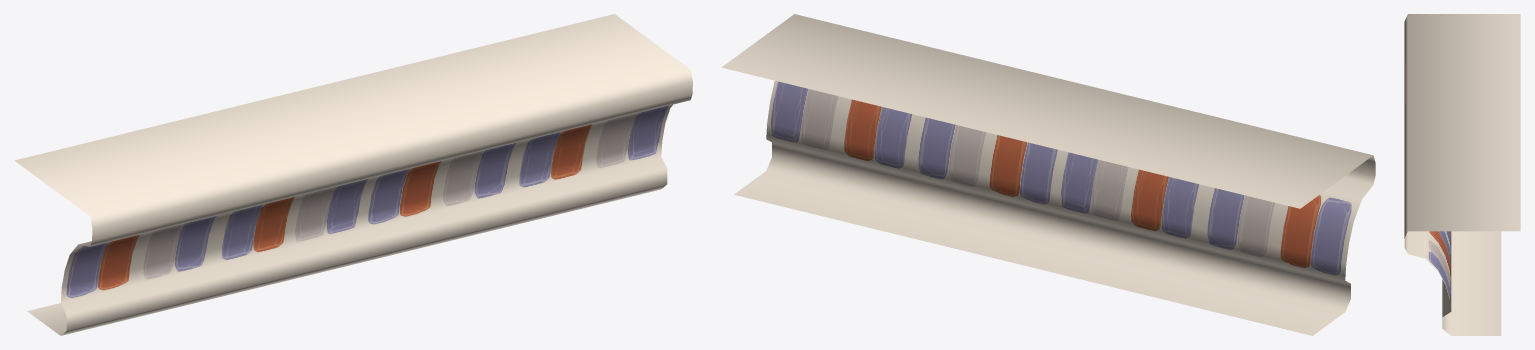
The picture shows the model from 3 angles, left to right: view 1: azimuth 30°, elevation 25°; view 2: azimuth 150°, elevation 25°; view 3: azimuth 270°, elevation 25°; orthographic projection. The views are drawn at different scales.
Parts seen in each view (by area): view 1: Plane001; view 2: Plane001; view 3: Plane001.
Boxes of the visible parts, x1,y1,x2,y2 form: Plane001: [14, 14, 692, 335]; Plane001: [721, 14, 1375, 335]; Plane001: [1404, 14, 1520, 335].
Bounding box in the file's own units: 517 × 117 × 116.
